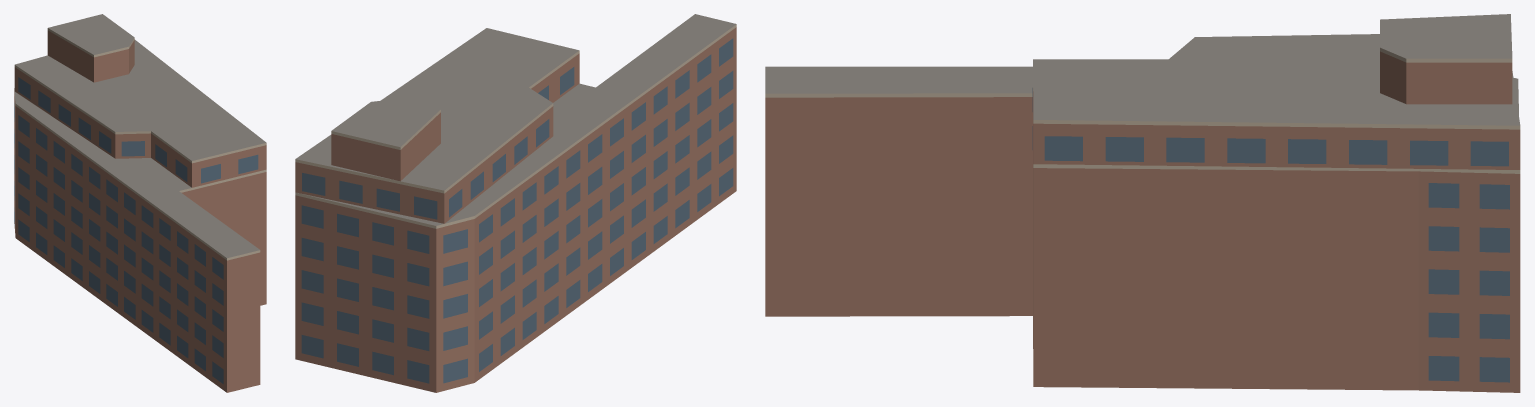
The model's file is dc-au-butler-pavilion.glb.
3 renders of one model, left to right at view 1: azimuth 30°, elevation 25°; view 2: azimuth 150°, elevation 25°; view 3: azimuth 270°, elevation 25°, orthographic. The views are drawn at different scales.
Visible parts, largest first — view 1: Butler Pavilion; view 2: Butler Pavilion; view 3: Butler Pavilion.
Boxes of the visible parts, box(x1,y1,x2,y2) form: Butler Pavilion: box(14, 14, 266, 392); Butler Pavilion: box(295, 14, 736, 392); Butler Pavilion: box(765, 14, 1520, 392).
Bounding box in the file's own units: 18.57 × 26.1 × 57.15.
